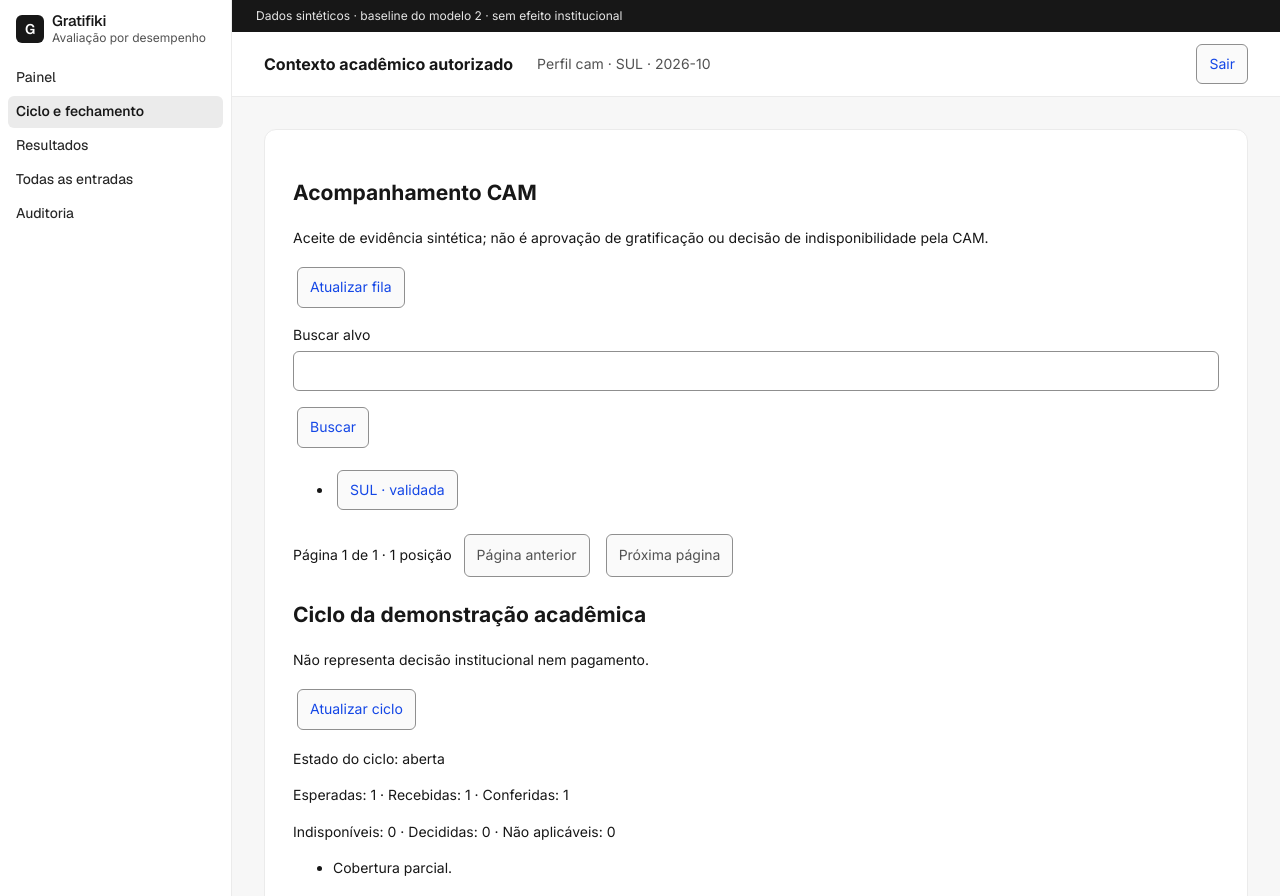
Test: CAM reading another target cannot authorize mutations until matching context is selected
The width and height of the screenshot is (1280, 896).
Step 1. Click the button "SUL · validada" → (397, 490), box x1=337 y1=470 x2=458 y2=510
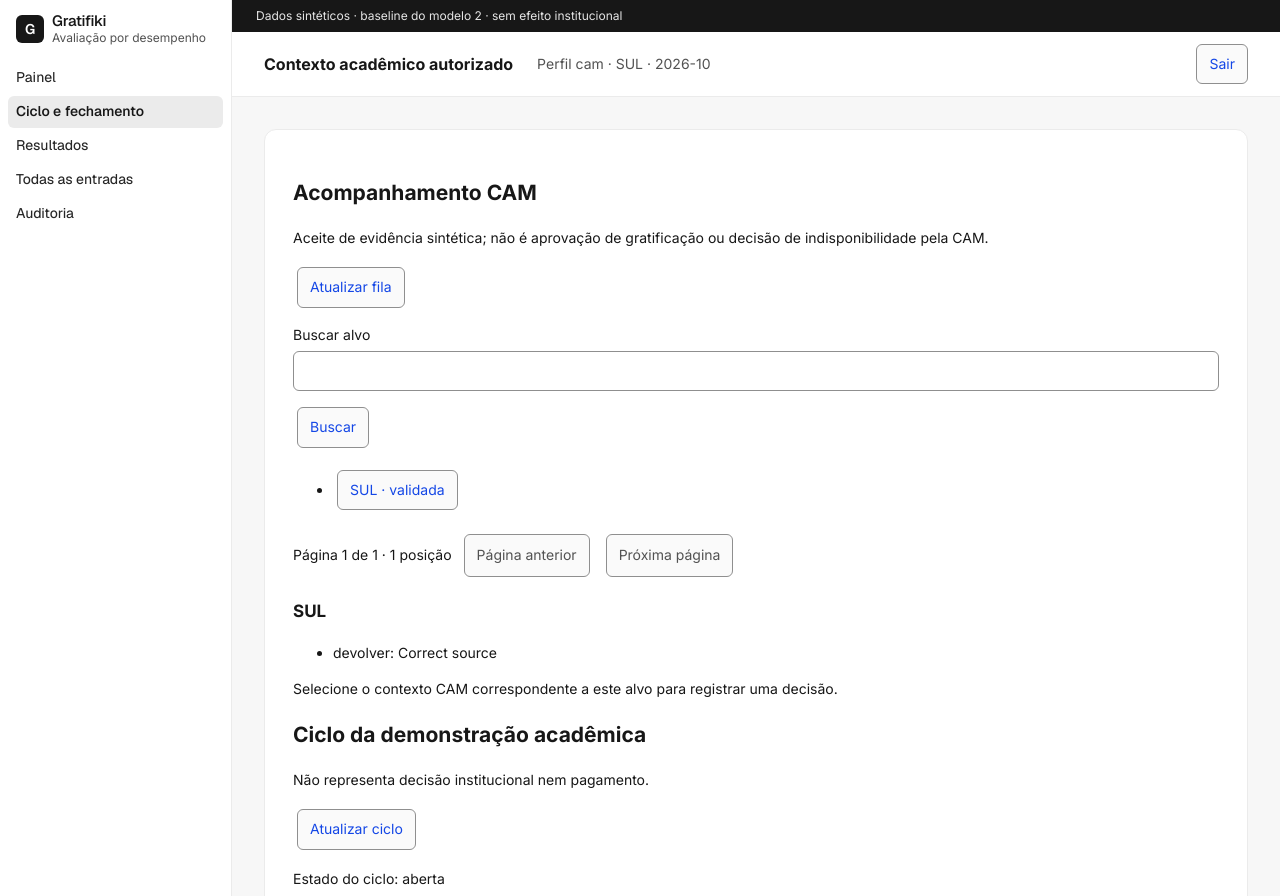
Check: the text "Selecione o contexto CAM correspondente" is shown, box x1=293 y1=680 x2=838 y2=697
